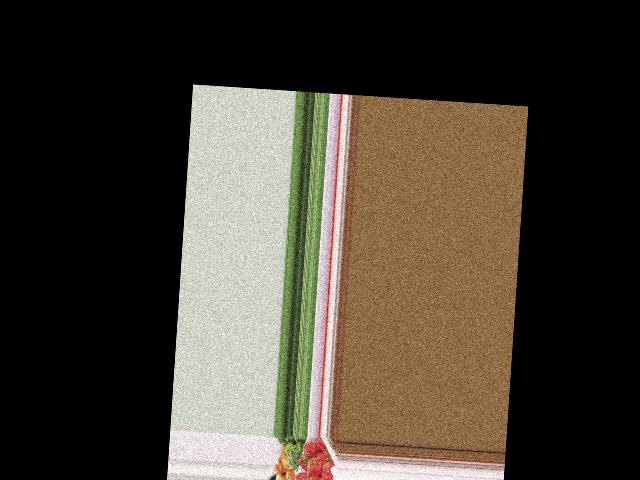bell_pepper: (320, 461, 336, 480)
